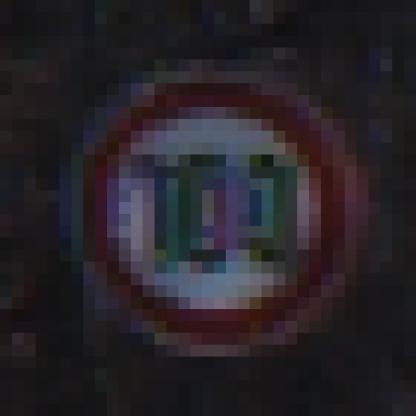Speed Limit 100: (87, 80, 352, 350)
